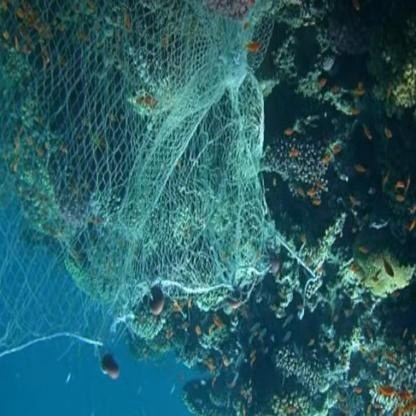net: (7, 7, 268, 331)
